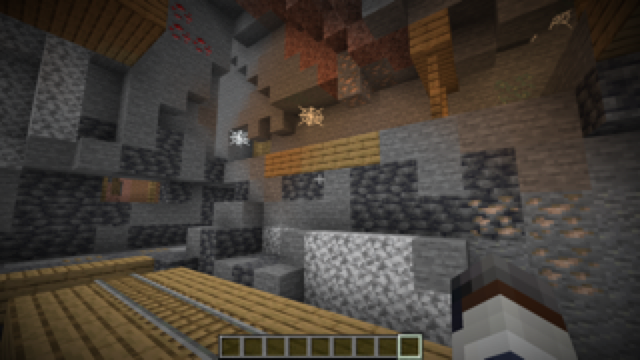iron: (468, 194, 599, 299), (337, 51, 395, 108)
redstone: (165, 2, 212, 55)
